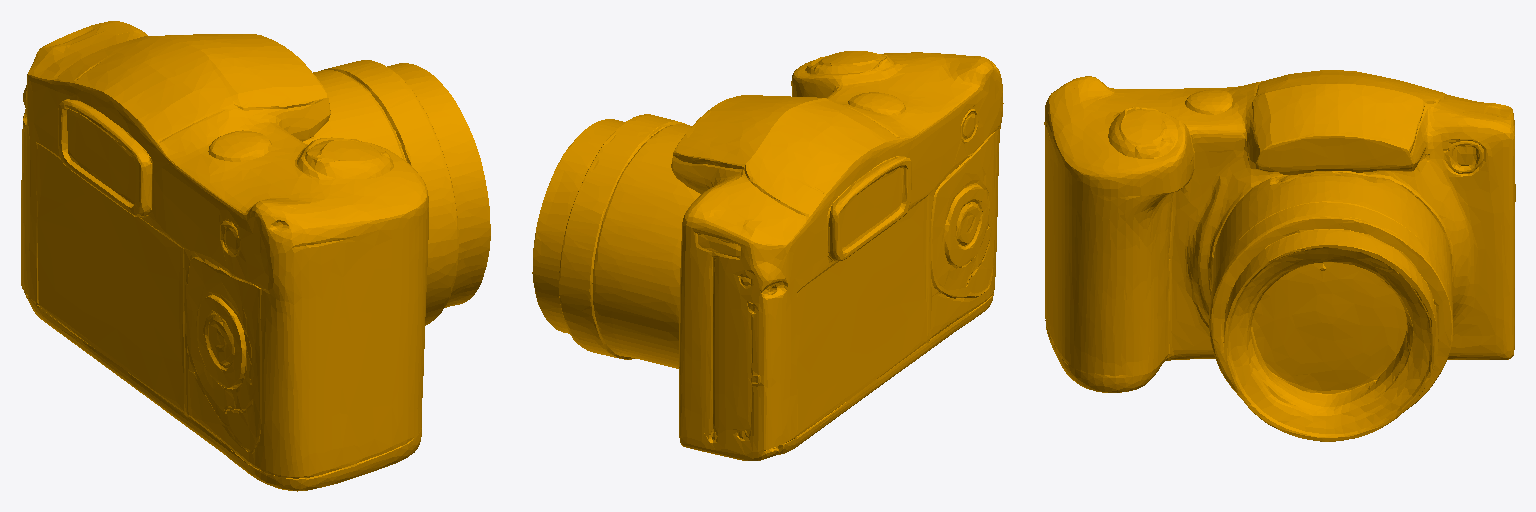
The robot description file, URDF, robot "sample":
<?xml version="1.0" ?>
<robot name="sample">
   <link name="sample">
      <visual>
         <origin xyz="0 0 0" rpy="1.5708 0.0 0.0"/>
         <geometry>
            <mesh filename="mesh/sample.obj" scale="1.0 1.0 1.0"/>
         </geometry>
      </visual>
      <collision>
         <origin xyz="0 0 0" rpy="1.5708 0.0 0.0"/>
         <geometry>
            <mesh filename="mesh/sample_collision.obj" scale="1.0 1.0 1.0"/>
         </geometry>
         <gazebo>
            <mu1>0.70</mu1>
            <mu2>0.55</mu2>
         </gazebo>
      </collision>
      <inertial>
         <mass value="1.0000"/>
         <origin xyz="0 0 0"/>
         <inertia ixx="1.0" ixy="0.0" ixz="0.0" iyy="1.0" iyz="0.0" izz="1.0"/>
      </inertial>
      <extra_info>
         <scale>0.209065</scale>
         <version>v0.1.7</version>
         <category>camera</category>
         <description>red digital camera with large lens and grip</description>
         <min_height>0.12</min_height>
         <max_height>0.15</max_height>
         <real_height>0.135</real_height>
         <min_mass>0.8</min_mass>
         <max_mass>1.2</max_mass>
         <color>red</color>
         <rgba>[1.0, 0.0, 0.0, 1.0]</rgba>
         <generate_time>20260610163931</generate_time>
         <gs_model>mesh/sample_gs.ply</gs_model>
      </extra_info>
   </link>
   <custom_data>
      <quality>
         <MeshGeoChecker>YES</MeshGeoChecker>
         <ImageSegChecker>NO, object has visible artifacts and incomplete edges at the bottom.</ImageSegChecker>
         <ImageAestheticChecker>4.678800344467163</ImageAestheticChecker>
         <overall>NO</overall>
      </quality>
   </custom_data>
</robot>

--- Facts derived from the render (not from the file) ---
The picture shows the robot from 3 angles, left to right: view 1: azimuth 30°, elevation 25°; view 2: azimuth 150°, elevation 25°; view 3: azimuth 270°, elevation 25°; orthographic projection.
Robot: sample — 1 links, 0 joints (none); root link sample; default pose: every joint at zero.
Visible links, largest first — view 1: sample; view 2: sample; view 3: sample.
Link boxes in pixels (left/top/right/bottom): sample: left=21, top=21, right=490, bottom=491; sample: left=532, top=51, right=1003, bottom=460; sample: left=1044, top=70, right=1515, bottom=441.
Bounding box of the posed robot: 0.1471 × 0.2091 × 0.135 m (x, y, z).
1 mesh visuals loaded from 1 distinct referenced files (1 OBJ).
